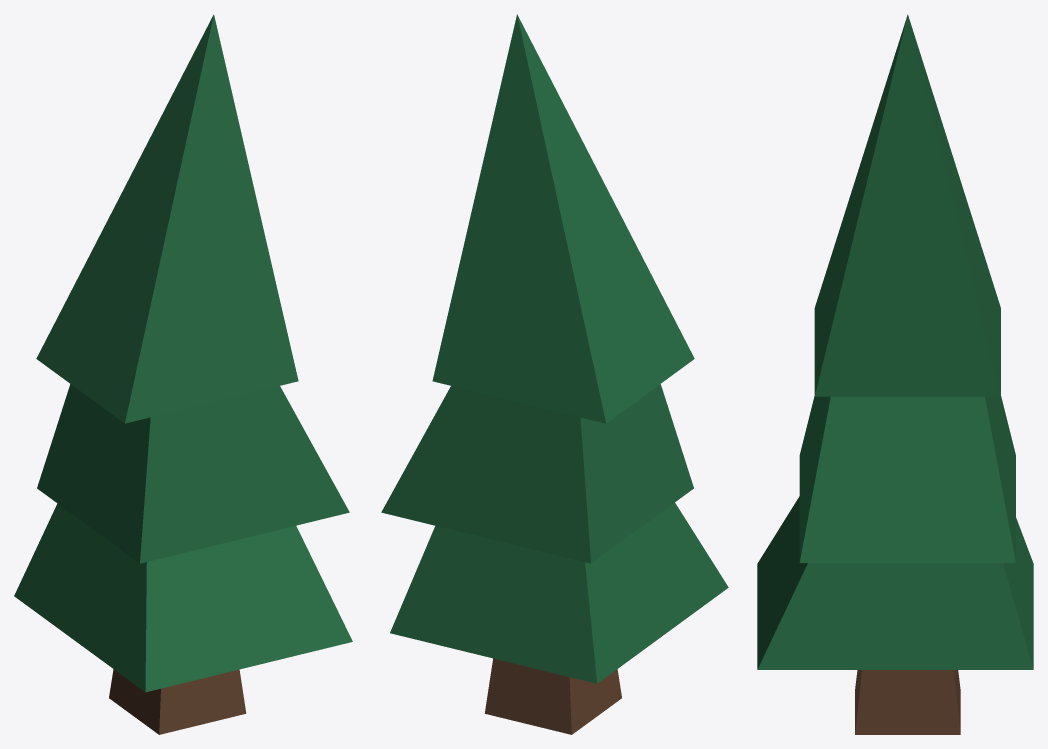
File: nk_pinesmall_c.glb
The picture shows the model from 3 angles, left to right: view 1: azimuth 30°, elevation 25°; view 2: azimuth 150°, elevation 25°; view 3: azimuth 270°, elevation 25°; orthographic projection. The views are drawn at different scales.
Parts seen in each view (by area): view 1: tree_pineSmallC; view 2: tree_pineSmallC; view 3: tree_pineSmallC.
Boxes of the visible parts, box(x1,y1,x2,y2) form: tree_pineSmallC: box(14, 14, 352, 734); tree_pineSmallC: box(381, 14, 728, 734); tree_pineSmallC: box(757, 14, 1033, 734).
Bounding box in the file's own units: 1.72 × 5 × 1.74.
